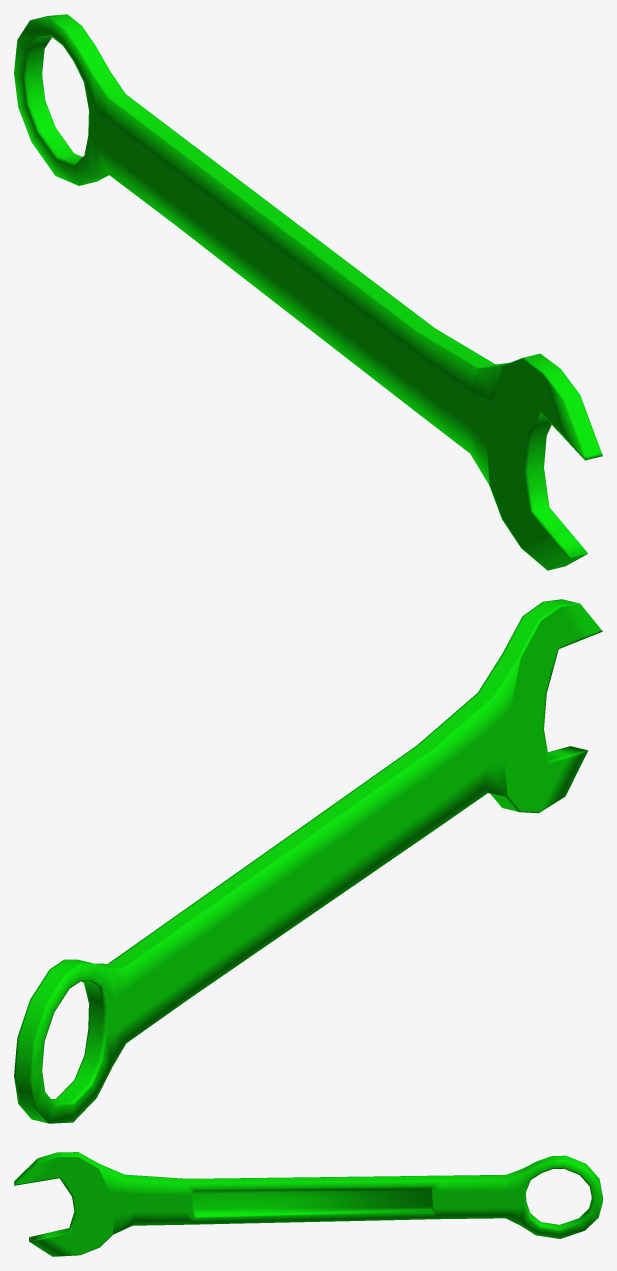
The model's file is Wrench_msh.fbx.
3 renders of one model, top to bottom at view 1: azimuth 30°, elevation 25°; view 2: azimuth 150°, elevation 25°; view 3: azimuth 270°, elevation 25°, orthographic. The views are drawn at different scales.
Visible parts, largest first — view 1: Wrench_msh; view 2: Wrench_msh; view 3: Wrench_msh.
Boxes of the visible parts, bbox=[...] form: Wrench_msh: bbox=[14, 14, 602, 570]; Wrench_msh: bbox=[14, 599, 602, 1123]; Wrench_msh: bbox=[14, 1152, 602, 1256].
Size of the model in its own units: 0.6112 by 6.37 by 33.91.
